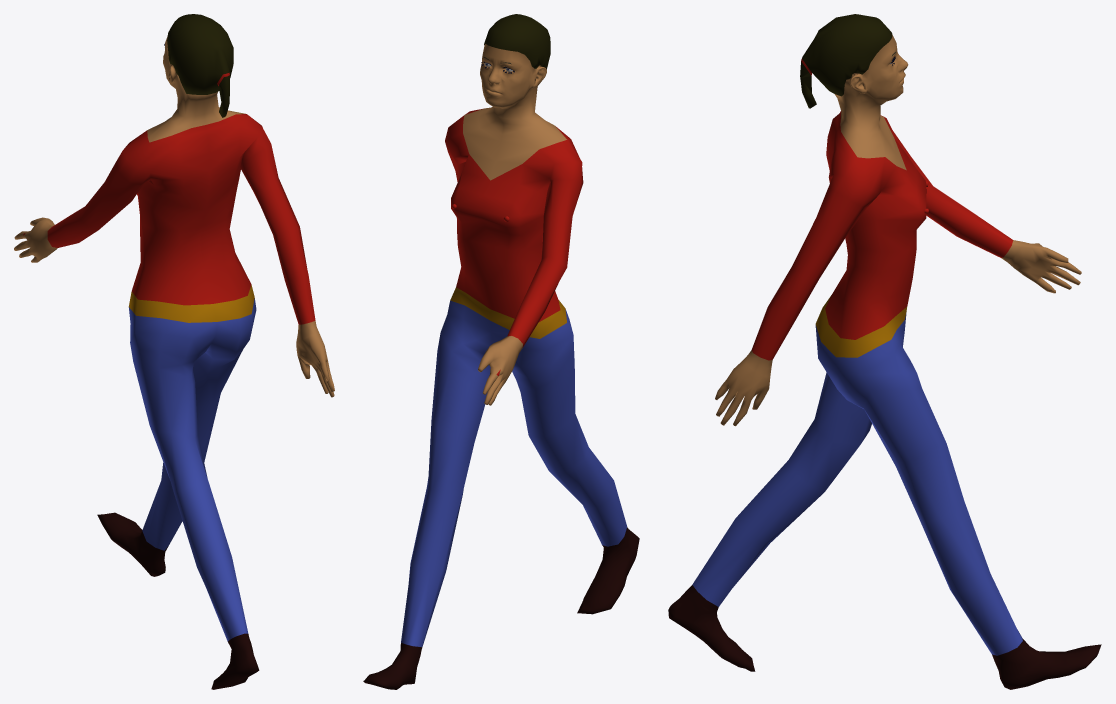
File: person_000005.obj
The picture shows the model from 3 angles, left to right: view 1: azimuth 30°, elevation 25°; view 2: azimuth 150°, elevation 25°; view 3: azimuth 270°, elevation 25°; orthographic projection. The views are drawn at different scales.
Parts seen in each view (by area): view 1: Cube; view 2: Cube; view 3: Cube.
Boxes of the visible parts, x1=… form: Cube: x1=14, y1=14, x2=334, y2=689; Cube: x1=363, y1=14, x2=639, y2=689; Cube: x1=668, y1=14, x2=1101, y2=689.
Size of the model in its own units: 24.87 by 92.08 by 54.56.
